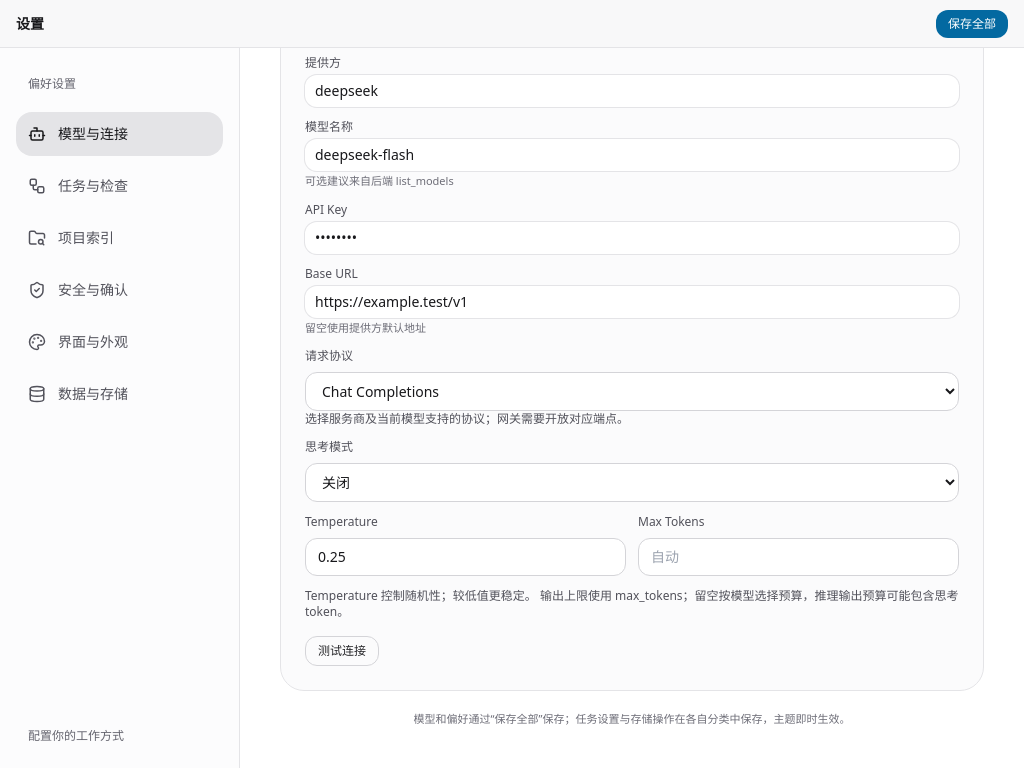
model settings across both entry points › uses configured temperature when thinking is explicitly disabled
(page scrolled)
Expected: the button "保存全部" is enabled, [936,10,1008,38]
Replace the text in the number field labelled "Temperature" with "0.5" at (466, 557), box [305,538,626,576]
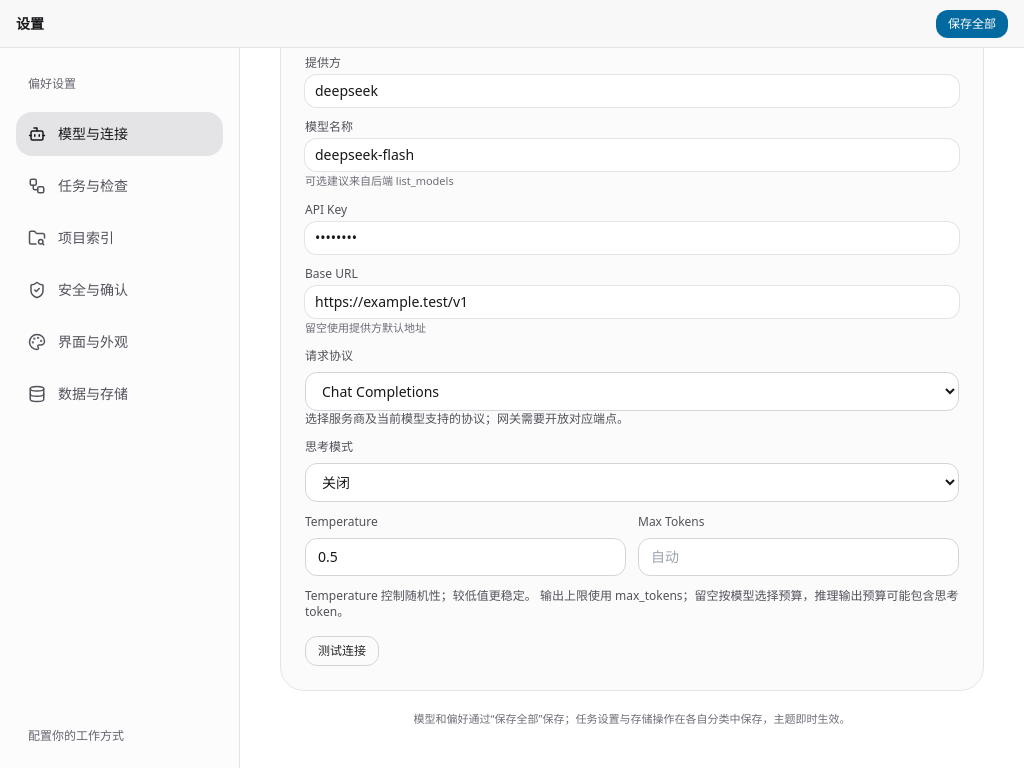
Click the button "测试连接" at (342, 651), box [305,636,379,666]
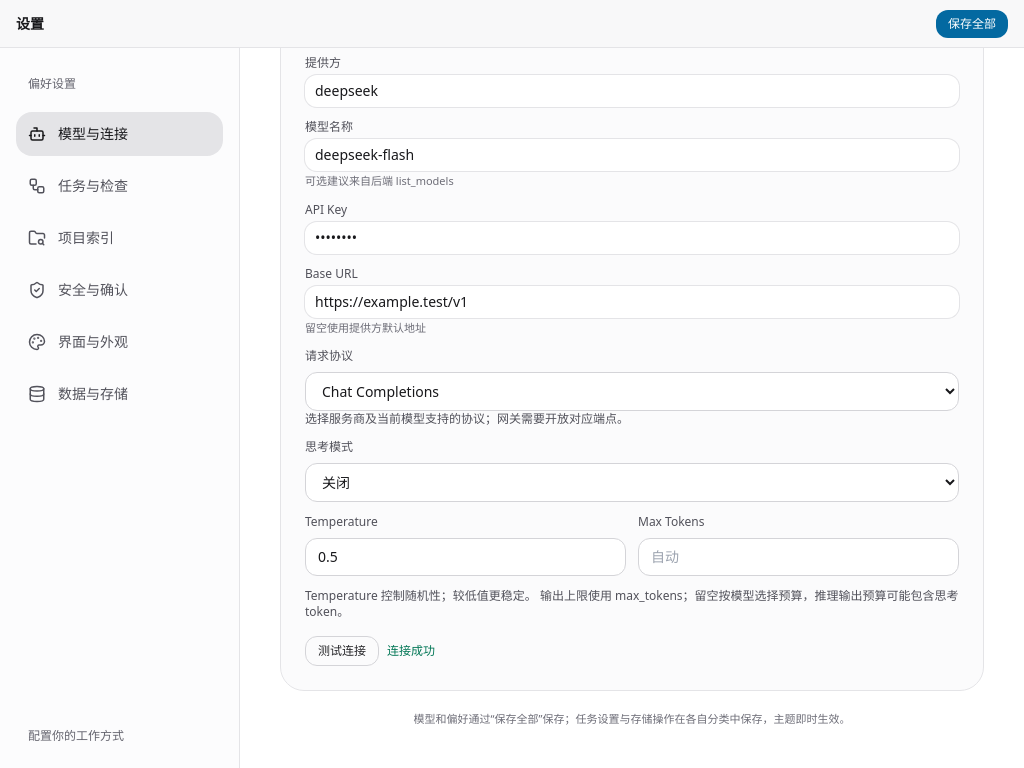
Now the text "连接成功" is shown, box [387,643,435,659]
